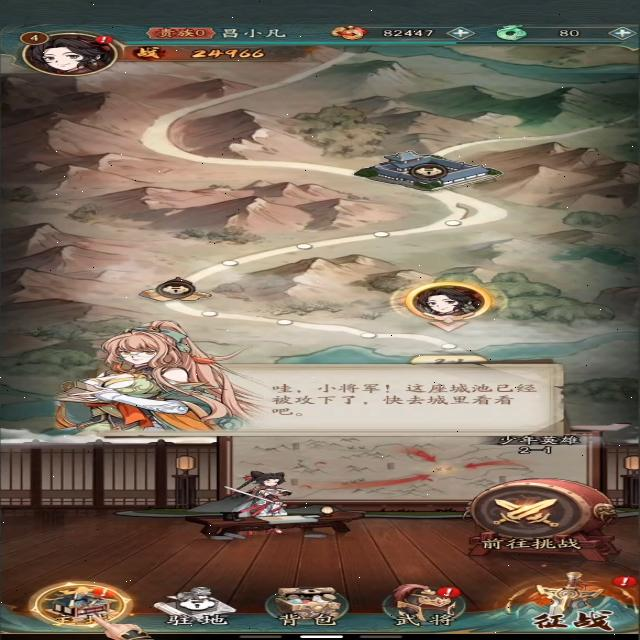hint-guide: (49, 320, 570, 440), (23, 578, 148, 640)
hint-reddot: (432, 582, 468, 601), (606, 574, 640, 591), (90, 33, 120, 45)
navigation-bag: (268, 581, 358, 630)
navigation-fight: (499, 567, 640, 634)
navigation-hero: (378, 576, 478, 632)
navigation-main: (32, 582, 135, 629)
navigation-role: (17, 29, 127, 80)
navigation-station-off: (154, 582, 248, 632)
operation-challenge: (456, 475, 624, 555)
